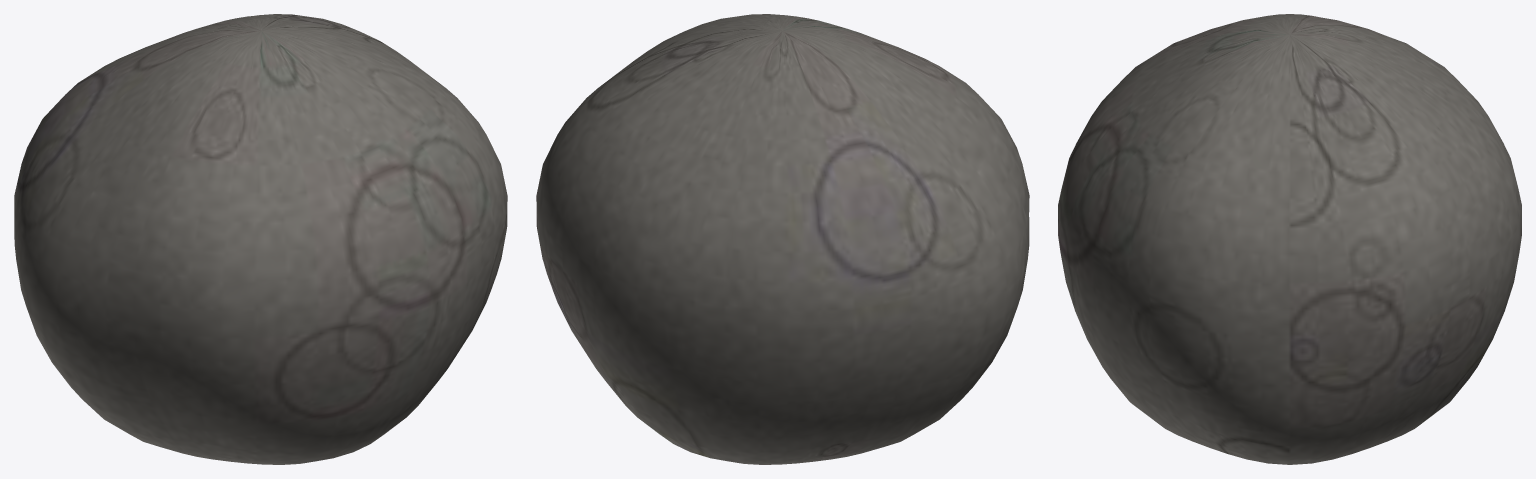
File: proteus.glb
3 renders of one model, left to right at view 1: azimuth 30°, elevation 25°; view 2: azimuth 150°, elevation 25°; view 3: azimuth 270°, elevation 25°, orthographic.
Size of the model in its own units: 2.12 by 1.88 by 2.
1 material, 1 textured.
